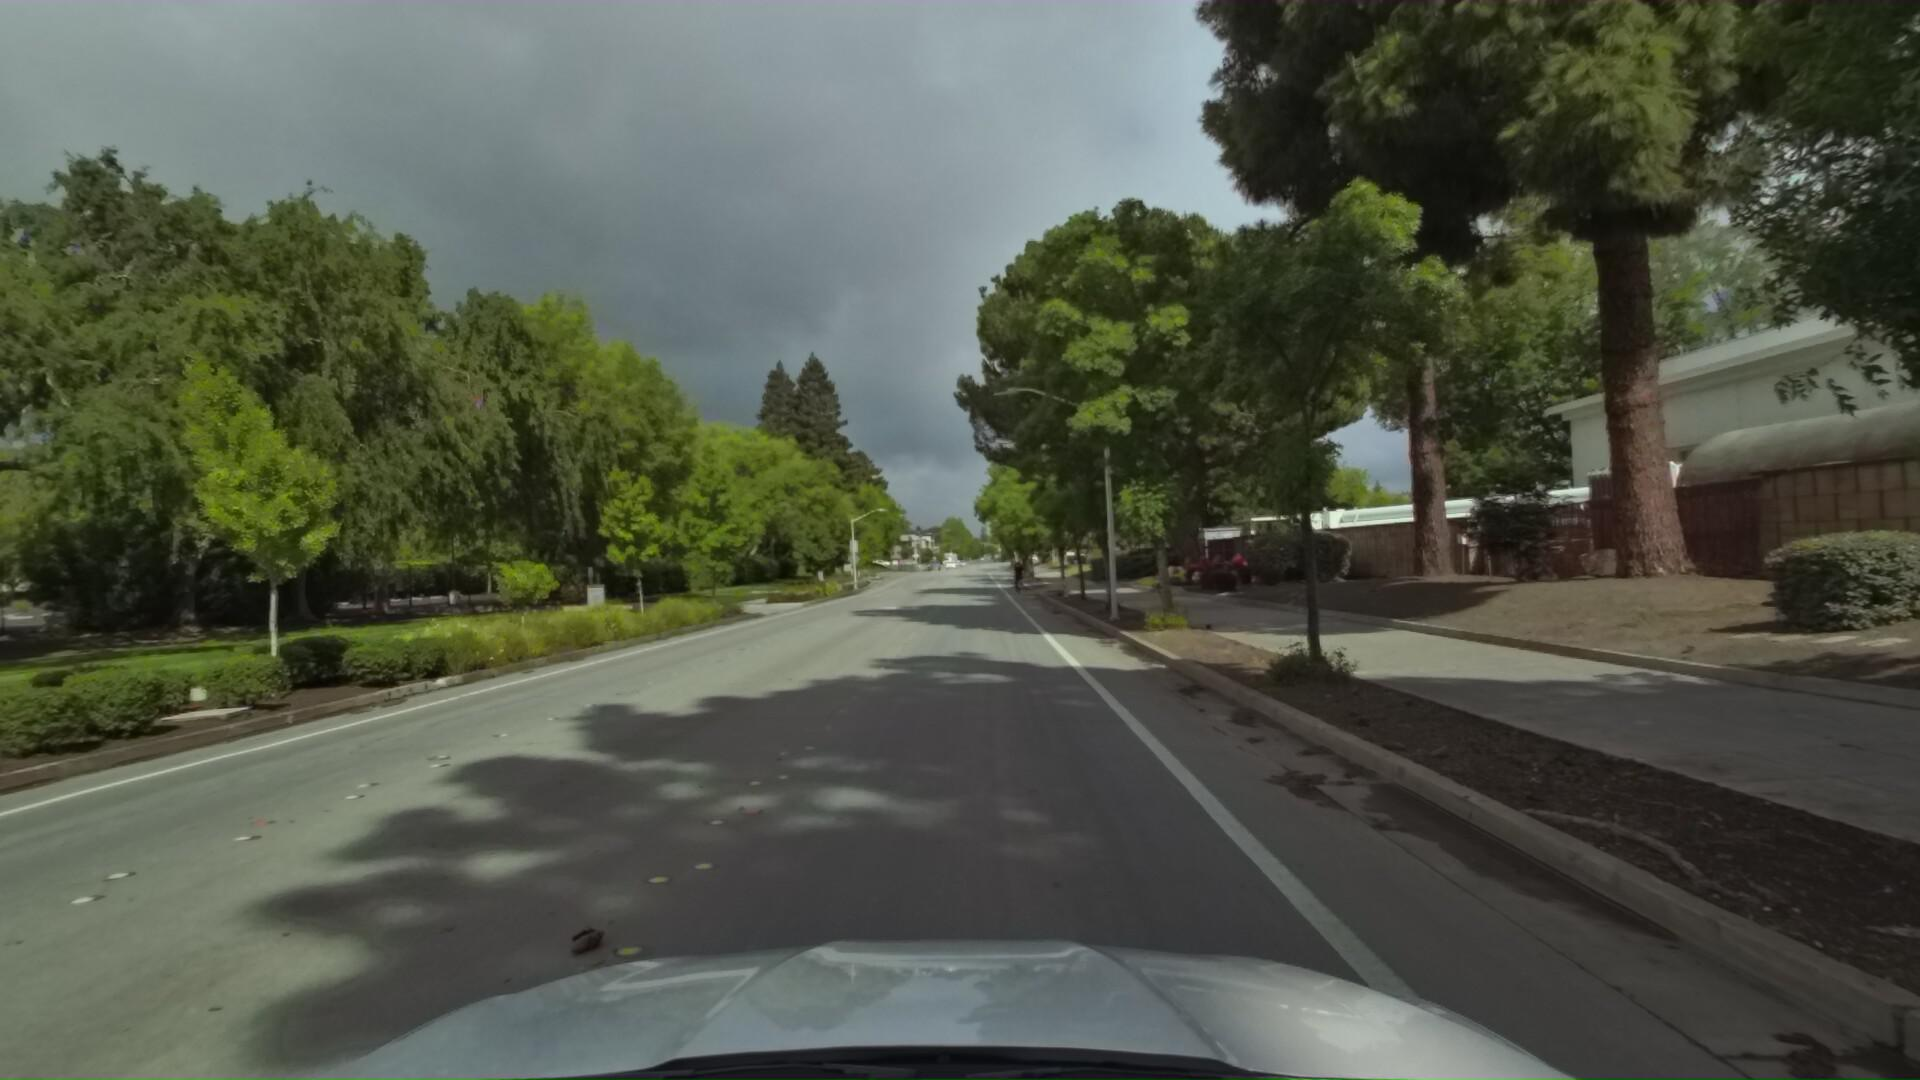bicycle: (1006, 553, 1027, 589)
